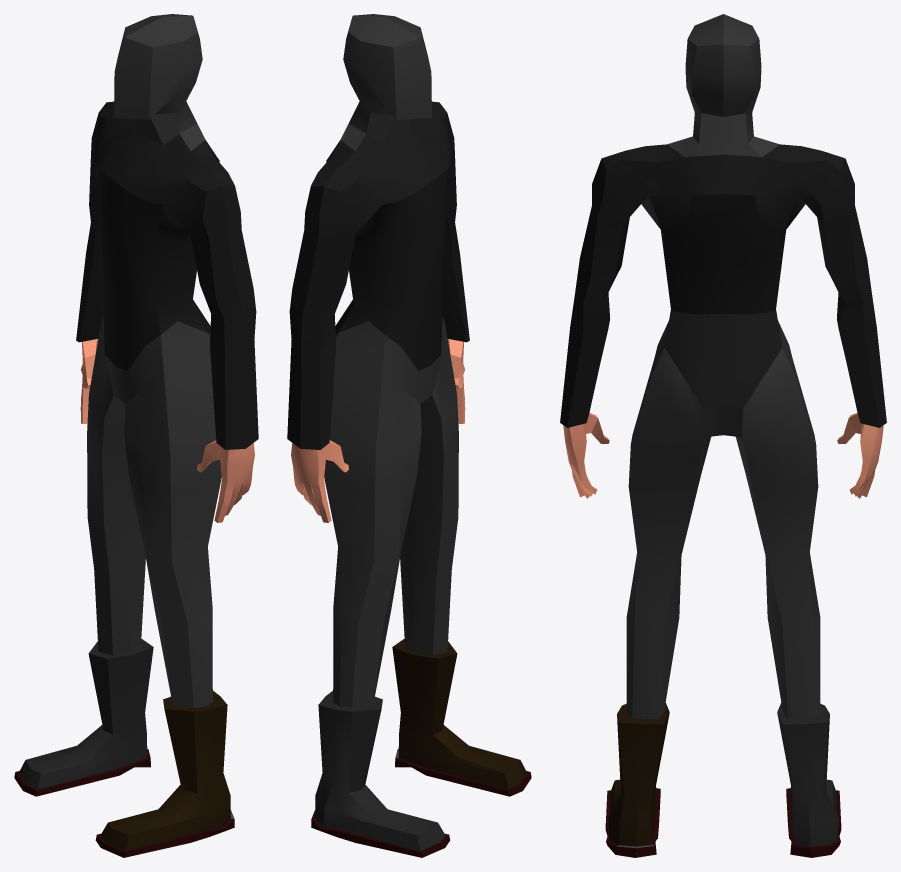
Rendered from violet.fbx.
3 views of the same model, side by side, from view 1: azimuth 30°, elevation 25°; view 2: azimuth 150°, elevation 25°; view 3: azimuth 270°, elevation 25° (orthographic). The views are drawn at different scales.
Visible parts, largest first — view 1: vi; view 2: vi; view 3: vi.
Part boxes in pixels (left/top/right/bottom): vi: left=14, top=14, right=258, bottom=857; vi: left=287, top=14, right=531, bottom=857; vi: left=560, top=14, right=886, bottom=857.
Bounding box in the file's own units: 44.31 × 219 × 78.78.
